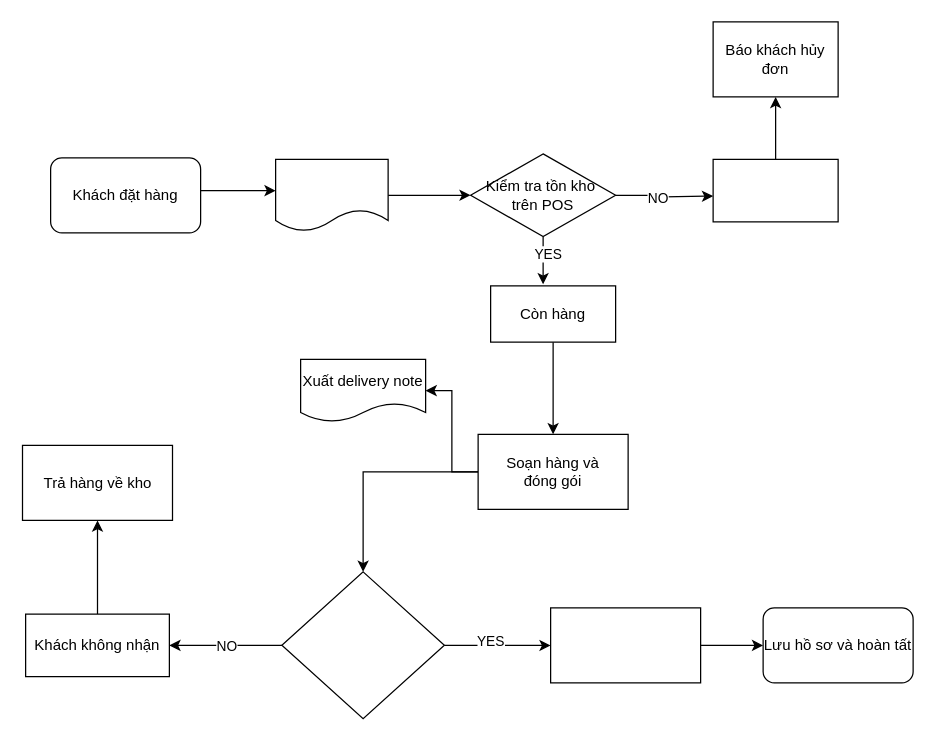
Some shapes in this 935 by 741 pixel diagram are drawn without their labels. The centre of each missing label's shape, as x and y in pixels:
"Hết hàng" belongs at (x=775, y=190).
"Khách kiểm hàng và kí nhận công nợ" belongs at (x=362, y=645).
"Nhận PO (Zalo, Mail, Shopee)" belongs at (x=331, y=194).
"Xuất VAT trên M Invoice" belongs at (x=625, y=645).
